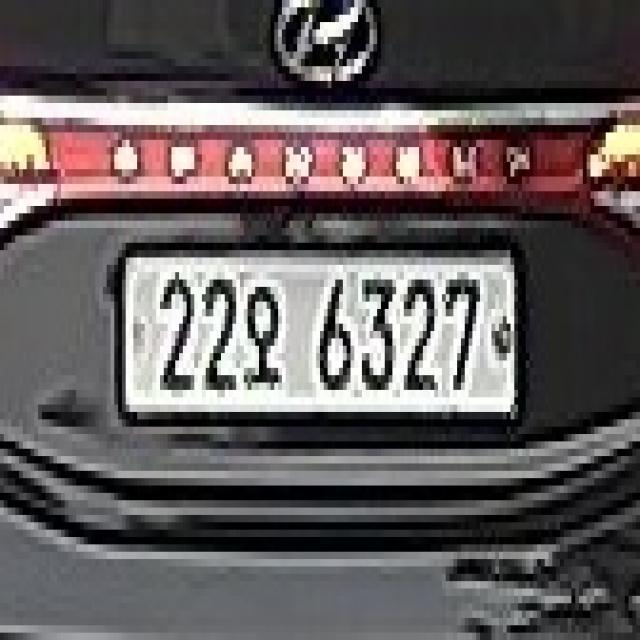2: (154, 274, 200, 397), (399, 268, 442, 393), (200, 269, 243, 393)
3: (357, 272, 401, 395)
6: (313, 272, 357, 394)
7: (442, 268, 493, 398)
license_plate: (127, 255, 517, 409)
o: (242, 278, 285, 395)
